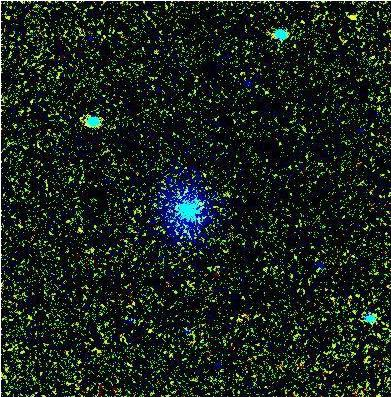star: (335, 2, 365, 32)
